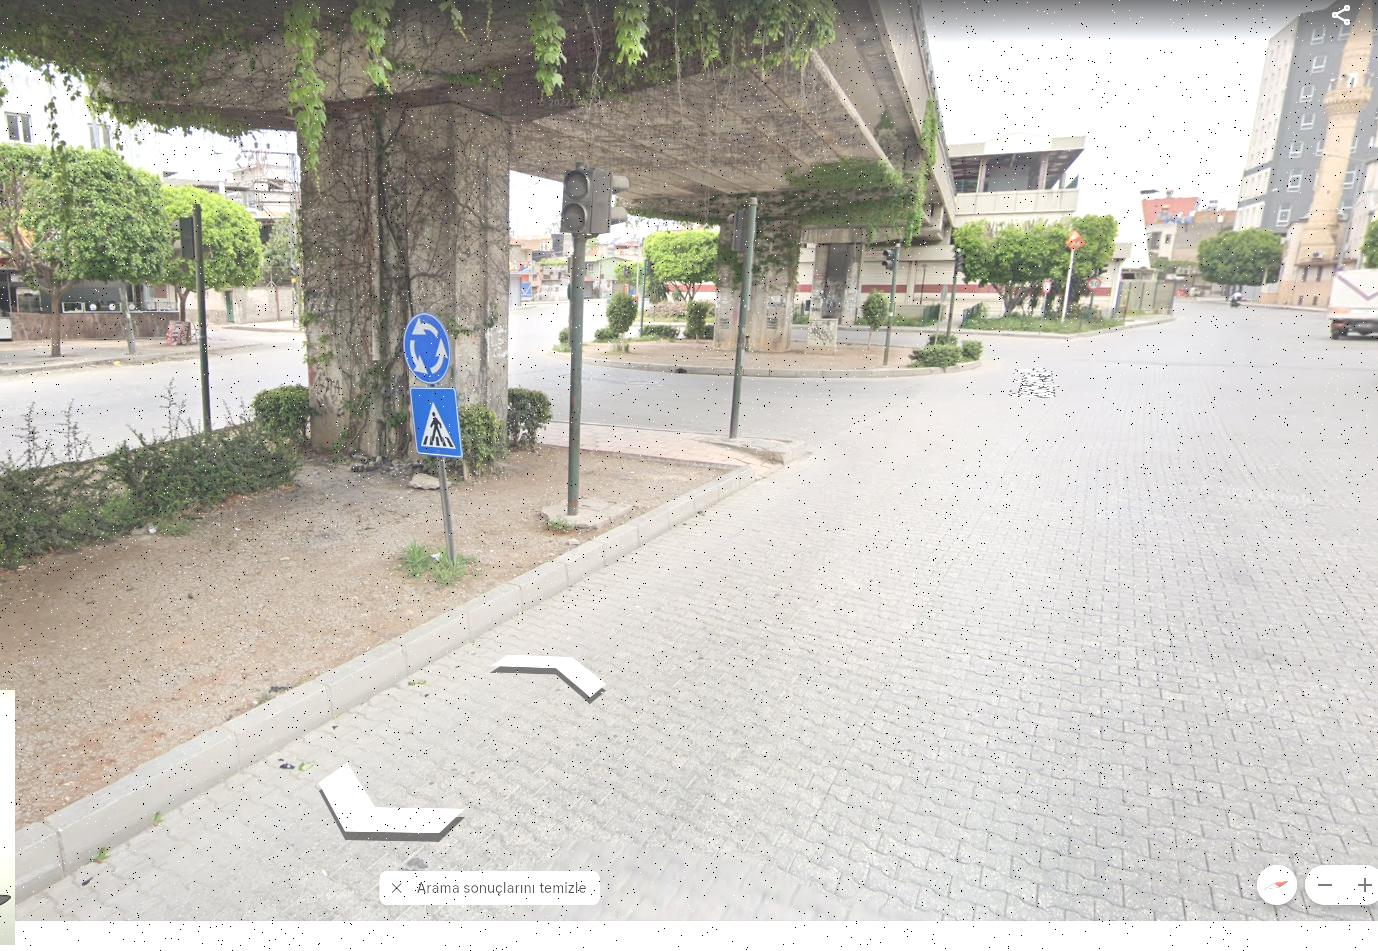crossroads: (404, 316, 453, 381)
